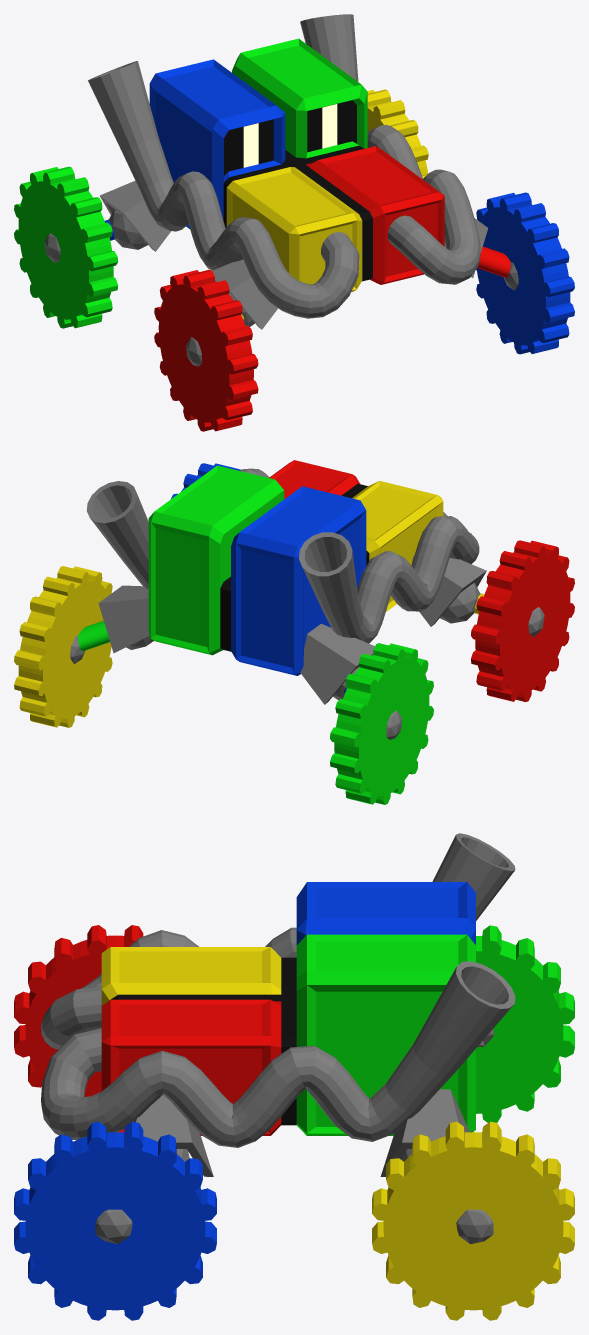
File: MacroTechGigant.fbx
3 renders of one model, top to bottom at view 1: azimuth 30°, elevation 25°; view 2: azimuth 150°, elevation 25°; view 3: azimuth 270°, elevation 25°, orthographic. The views are drawn at different scales.
Parts seen in each view (by area): view 1: Main, GearR1, GearR2, GearL1, GearL2, JointR2, JointL1; view 2: Main, GearR1, GearR2, GearL2, JointR1, JointL2, JointR2; view 3: Main, GearL2, GearL1, GearR2, GearR1, JointL1, JointL2.
Part boxes in pixels (left/top/right/bottom): Main: left=88, top=14, right=488, bottom=329; GearR1: left=154, top=269, right=258, bottom=431; GearR2: left=14, top=166, right=118, bottom=328; GearL1: left=476, top=192, right=574, bottom=354; GearL2: left=367, top=89, right=428, bottom=178; JointR2: left=44, top=209, right=147, bottom=263; JointL1: left=477, top=246, right=518, bottom=290; Main: left=86, top=460, right=486, bottom=704; GearR1: left=471, top=540, right=574, bottom=701; GearR2: left=330, top=643, right=433, bottom=804; GearL2: left=14, top=566, right=112, bottom=727; JointR1: left=440, top=582, right=544, bottom=636; JointL2: left=70, top=621, right=153, bottom=663; JointR2: left=333, top=667, right=401, bottom=739; Main: left=41, top=833, right=515, bottom=1176; GearL2: left=372, top=1121, right=574, bottom=1320; GearL1: left=14, top=1121, right=216, bottom=1320; GearR2: left=476, top=925, right=574, bottom=1122; GearR1: left=14, top=925, right=143, bottom=1096; JointL1: left=95, top=1149, right=189, bottom=1243; JointL2: left=401, top=1149, right=493, bottom=1243.
Bounding box in the file's own units: 948 × 630 × 1025.
